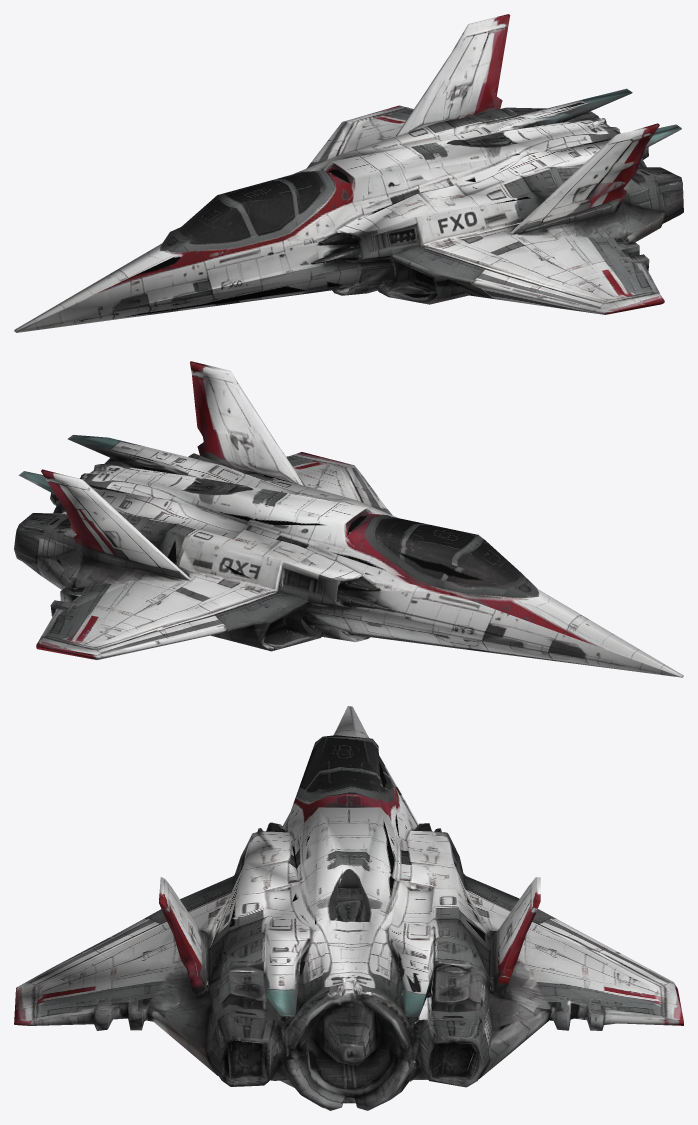
File: spaceship_fighter_simplify12.glb
3 views of the same model, one above another, from view 1: azimuth 30°, elevation 25°; view 2: azimuth 150°, elevation 25°; view 3: azimuth 270°, elevation 25° (orthographic). The views are drawn at different scales.
Parts seen in each view (by area): view 1: Mesh1.0_Material.001_0; view 2: Mesh1.0_Material.001_0; view 3: Mesh1.0_Material.001_0.
Boxes of the visible parts, x1,y1,x2,y2 form: Mesh1.0_Material.001_0: (14,14,683,332); Mesh1.0_Material.001_0: (14,361,683,677); Mesh1.0_Material.001_0: (14,706,683,1110).
Bounding box in the file's own units: 1.91 × 0.4455 × 1.37.
1 material, 1 textured.
